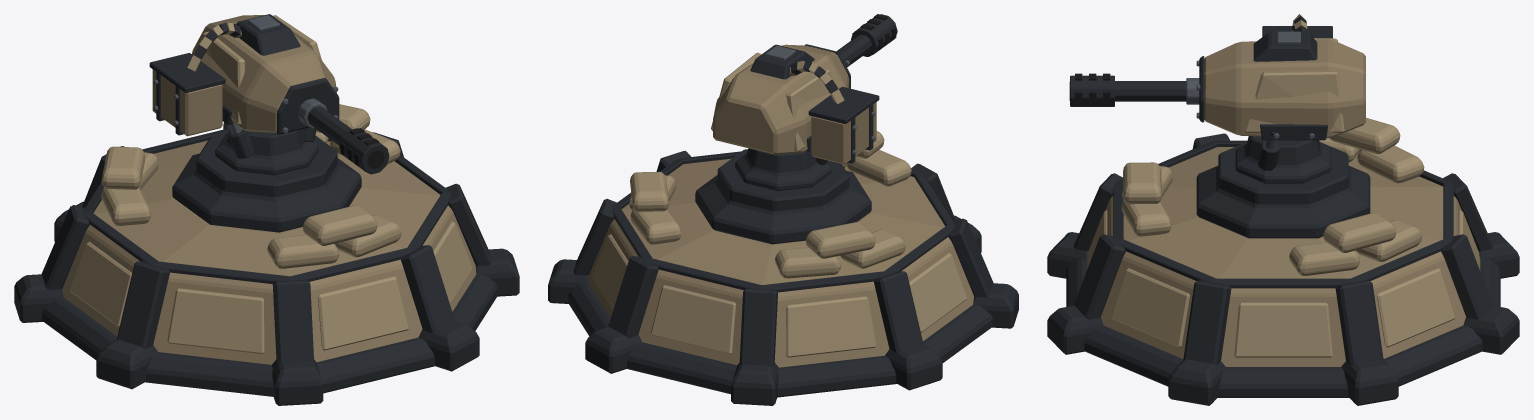
3 views of the same model, side by side, from view 1: azimuth 30°, elevation 25°; view 2: azimuth 150°, elevation 25°; view 3: azimuth 270°, elevation 25° (orthographic). The views are drawn at different scales.
Parts seen in each view (by area): view 1: casco, gun_pitch, turret_yaw; view 2: casco, gun_pitch, turret_yaw; view 3: casco, gun_pitch, turret_yaw.
Part boxes in pixels (x1,y1,x2,y2): casco: (14,104,519,405); gun_pitch: (149,14,389,174); turret_yaw: (215,113,318,175); casco: (548,131,1018,405); gun_pitch: (711,14,897,164); turret_yaw: (735,148,831,190); casco: (1047,117,1519,405); gun_pitch: (1069,14,1365,140); turret_yaw: (1235,131,1331,183).
Bounding box in the file's own units: 1 × 0.6396 × 1.
